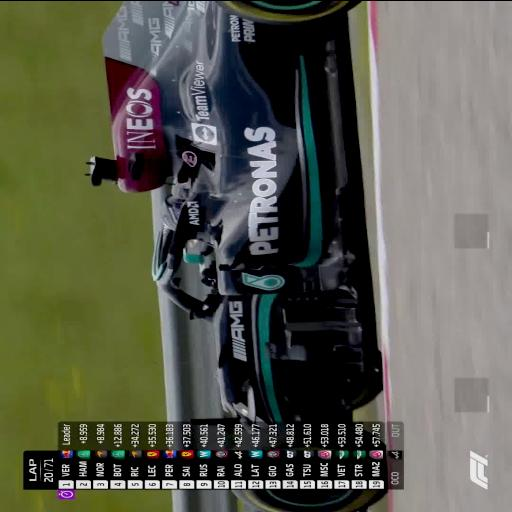f1_car: (88, 0, 381, 426), (234, 489, 384, 512), (205, 419, 218, 422), (222, 419, 226, 422)
